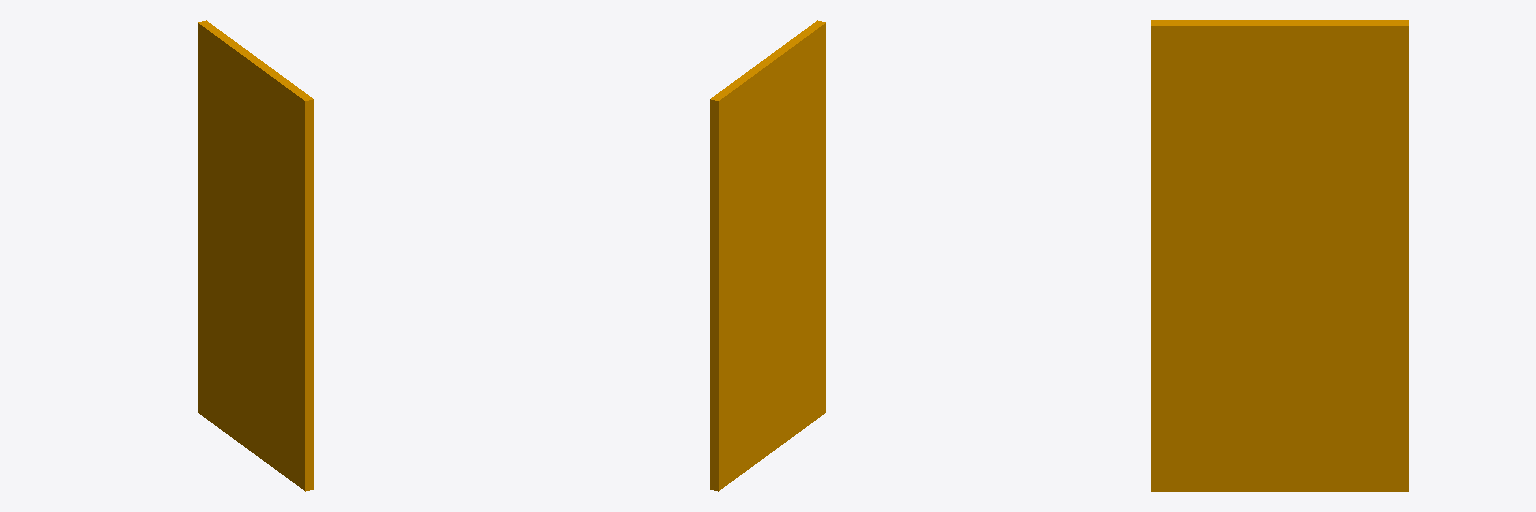
The robot description file, URDF, robot "simple_wall":
<robot name="simple_wall">
  <link name="wall">
    <inertial>
      <origin xyz="0 0 0" /> 
      <mass value="100.0" />
      <inertia  ixx="1.0" ixy="0.0"  ixz="0.0"  iyy="1.0"  iyz="0.0"  izz="1.0" />
    </inertial>
    <visual>
            <geometry>
                <mesh filename="package://hc10_ros/meshes/wall/wall.stl" />
            </geometry>
            <material name="yaskawa_blue" />
        </visual>
        <collision>
            <geometry>
                <mesh filename="package://hc10_ros/meshes/wall/wall.stl" />
            </geometry>
        </collision>
  </link>
  <gazebo reference="wall">
    <material>Gazebo/Blue</material>
  </gazebo>
</robot>

--- Render facts (derived) ---
Views: 3 orthographic renders of the robot side by side, from view 1: azimuth 30°, elevation 25°; view 2: azimuth 150°, elevation 25°; view 3: azimuth 270°, elevation 25°.
Robot: simple_wall — 1 links, 0 joints (none); root link wall; default pose: every joint at zero.
Links seen in each view (by area): view 1: wall; view 2: wall; view 3: wall.
Link boxes in pixels (x1,y1,x2,y2): wall: (198,20,313,491); wall: (710,20,825,491); wall: (1151,20,1408,491).
Bounding box of the posed robot: 70 × 1500 × 3000 m (x, y, z).
Meshes: 1 distinct files referenced, 1 mesh visuals loaded (1 binary STL).